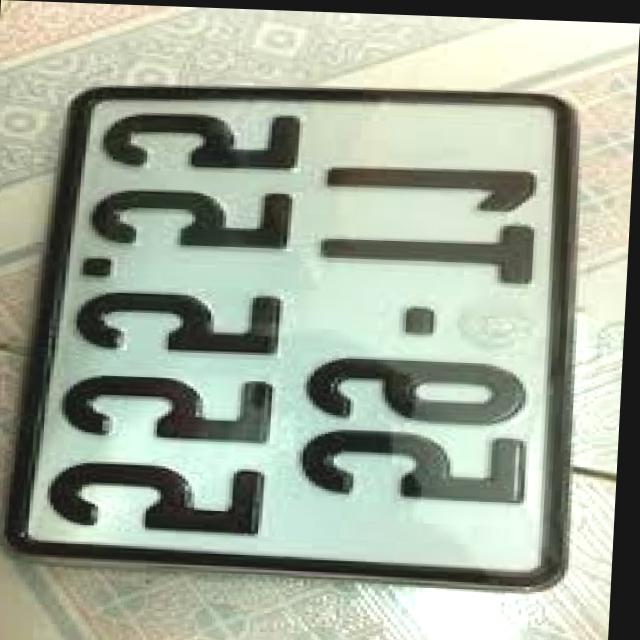bien so: (47, 89, 595, 588)
